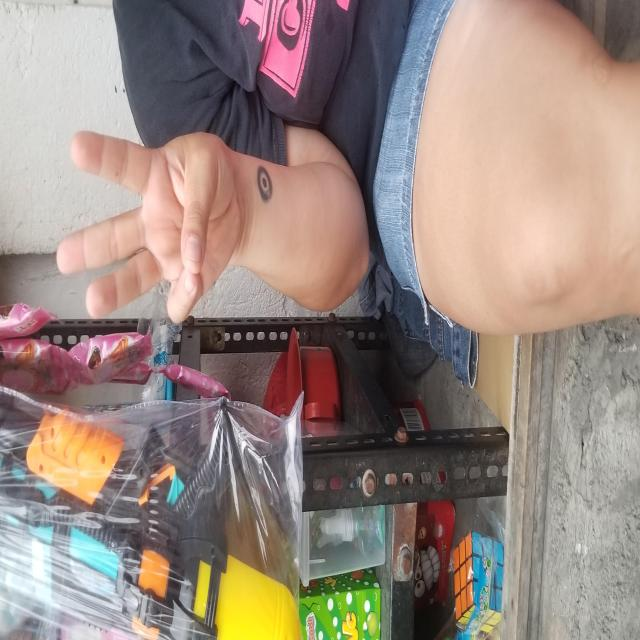W: (315, 54, 512, 239)
